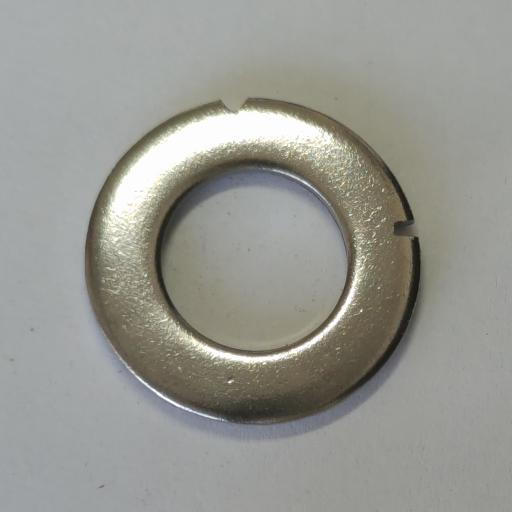burr: (218, 95, 250, 115), (392, 218, 420, 240)
